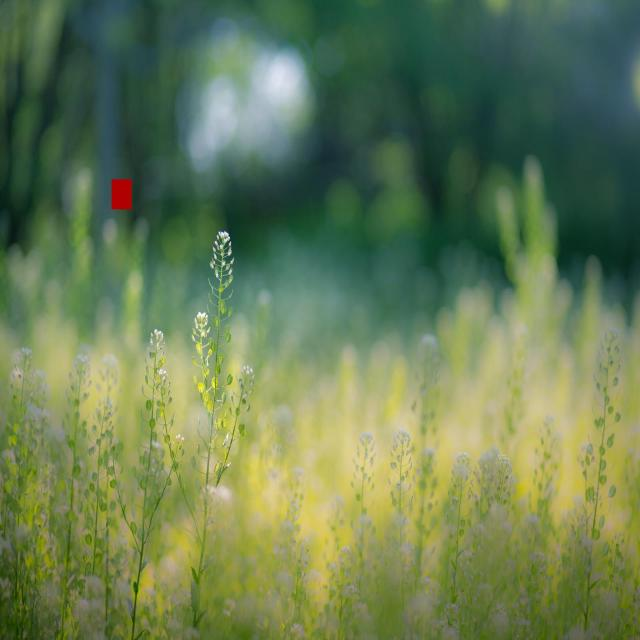RedSquare: (108, 170, 142, 218)
